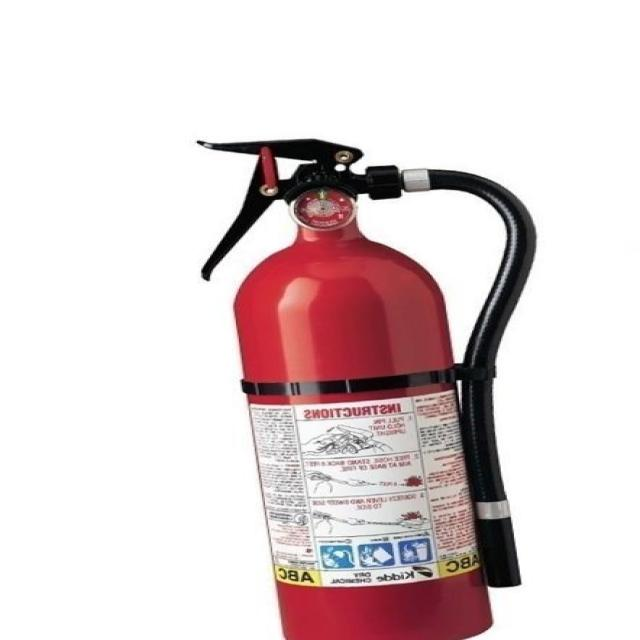fire_extinguisher: (180, 130, 551, 640)
